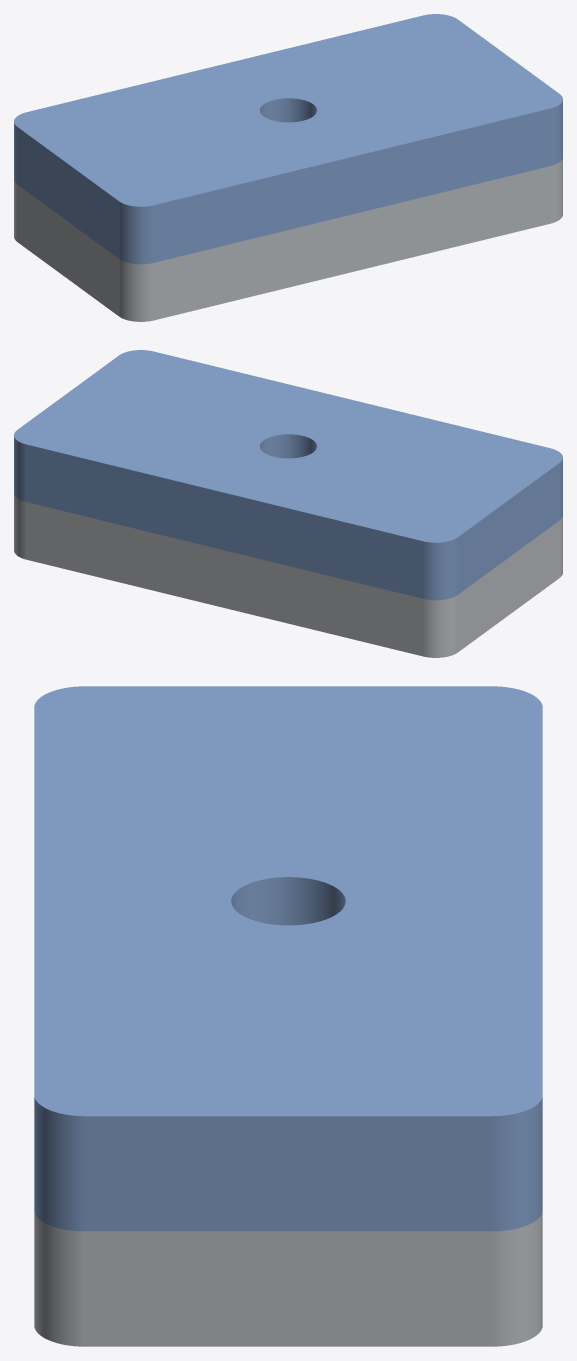
The model's file is step_06.glb.
The picture shows the model from 3 angles, top to bottom: view 1: azimuth 30°, elevation 25°; view 2: azimuth 150°, elevation 25°; view 3: azimuth 270°, elevation 25°; orthographic projection. The views are drawn at different scales.
Visible parts, largest first — view 1: part__upper plate, part__lower plate; view 2: part__upper plate, part__lower plate; view 3: part__upper plate, part__lower plate.
Part boxes in pixels (box(x1,y1,x2,y2)): part__upper plate: box(14, 14, 562, 264); part__lower plate: box(14, 158, 562, 321); part__upper plate: box(14, 350, 562, 600); part__lower plate: box(14, 494, 562, 657); part__upper plate: box(34, 686, 542, 1231); part__lower plate: box(34, 1212, 542, 1346).
Bounding box in the file's own units: 80 × 20 × 40.
